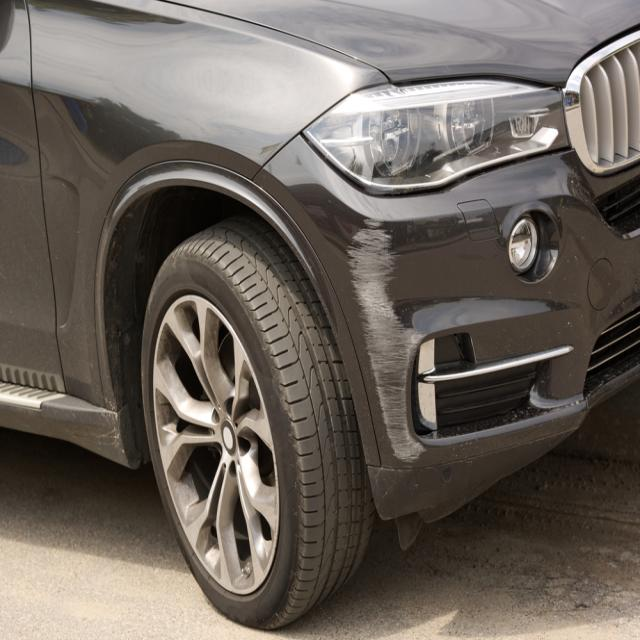scratch: (348, 204, 426, 467)
